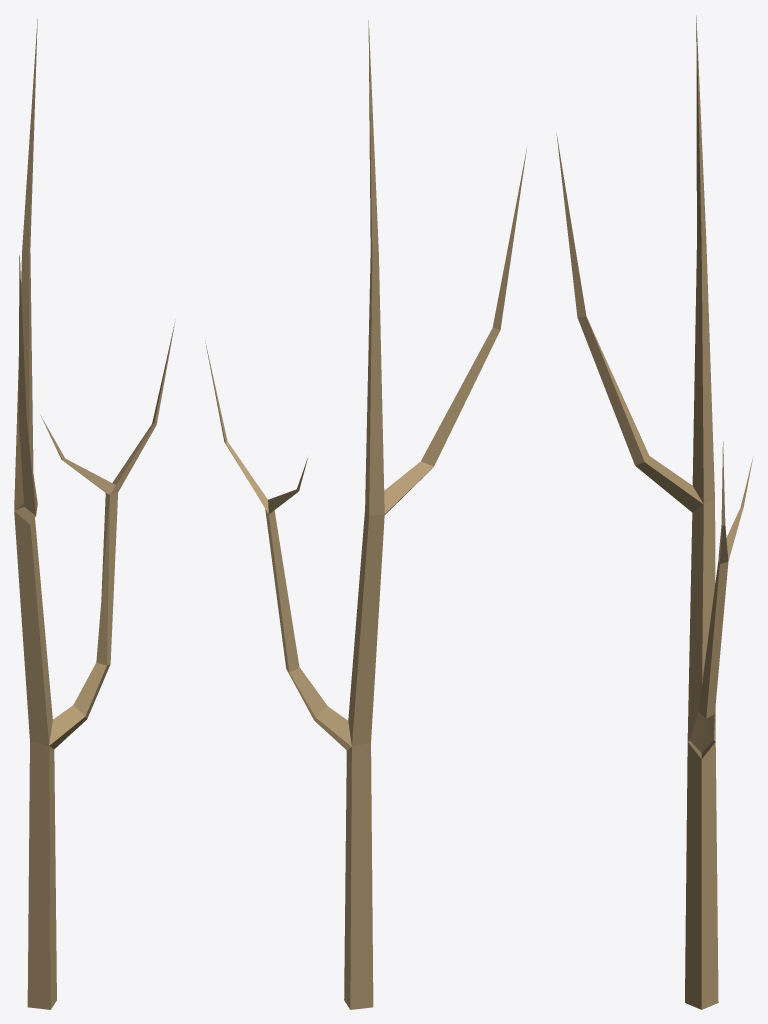
Rendered from Random_Tree_NoLeaves_s_01_LOD.fbx.
3 renders of one model, left to right at view 1: azimuth 30°, elevation 25°; view 2: azimuth 150°, elevation 25°; view 3: azimuth 270°, elevation 25°, orthographic.
Parts seen in each view (by area): view 1: Random_Tree_NoLeaves_s_01_LOD0; view 2: Random_Tree_NoLeaves_s_01_LOD0; view 3: Random_Tree_NoLeaves_s_01_LOD0.
Part boxes in pixels (x1=…): Random_Tree_NoLeaves_s_01_LOD0: x1=14, y1=19, x2=175, y2=1009; Random_Tree_NoLeaves_s_01_LOD0: x1=205, y1=20, x2=527, y2=1009; Random_Tree_NoLeaves_s_01_LOD0: x1=556, y1=15, x2=752, y2=1009.
Size of what is drawn, in the model's own units: 91.7 by 362 by 65.8.
